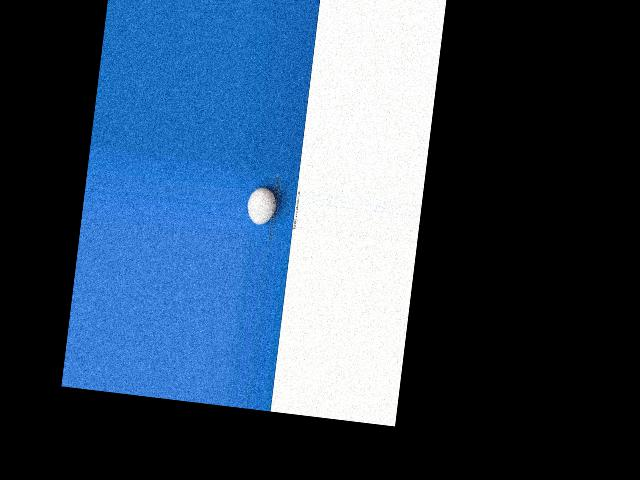egg: (246, 185, 278, 226)
